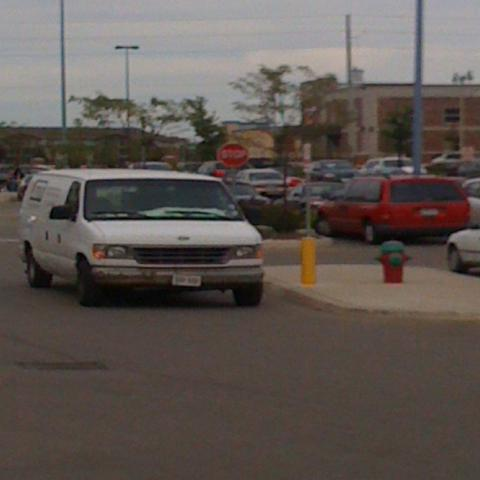car: (18, 167, 269, 308), (223, 179, 300, 235), (284, 182, 348, 228), (303, 158, 370, 183), (445, 228, 479, 274), (197, 162, 257, 180), (237, 169, 285, 191), (371, 157, 427, 175), (461, 178, 479, 229), (16, 175, 34, 201), (128, 161, 173, 171), (432, 152, 462, 164)
truck: (20, 167, 267, 307), (318, 175, 467, 246)
